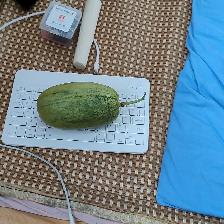gua: (41, 82, 136, 124)
